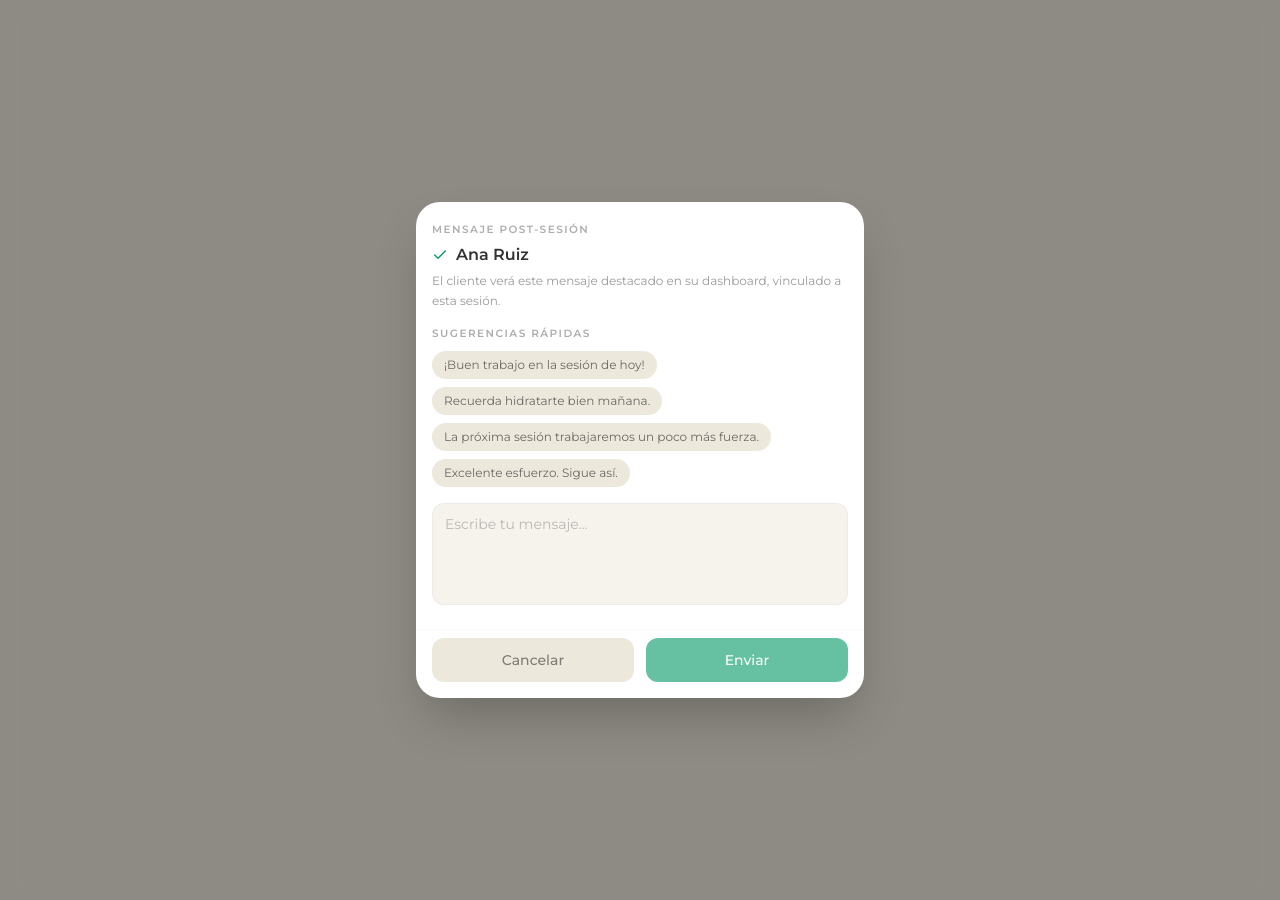
Scenario: PostSessionMessageSheet › fills the textarea when a quick suggestion is clicked
The width and height of the screenshot is (1280, 900).
Step 1. Click the button "¡Buen trabajo en la sesión de hoy!" → (544, 365), box [432,351,657,379]
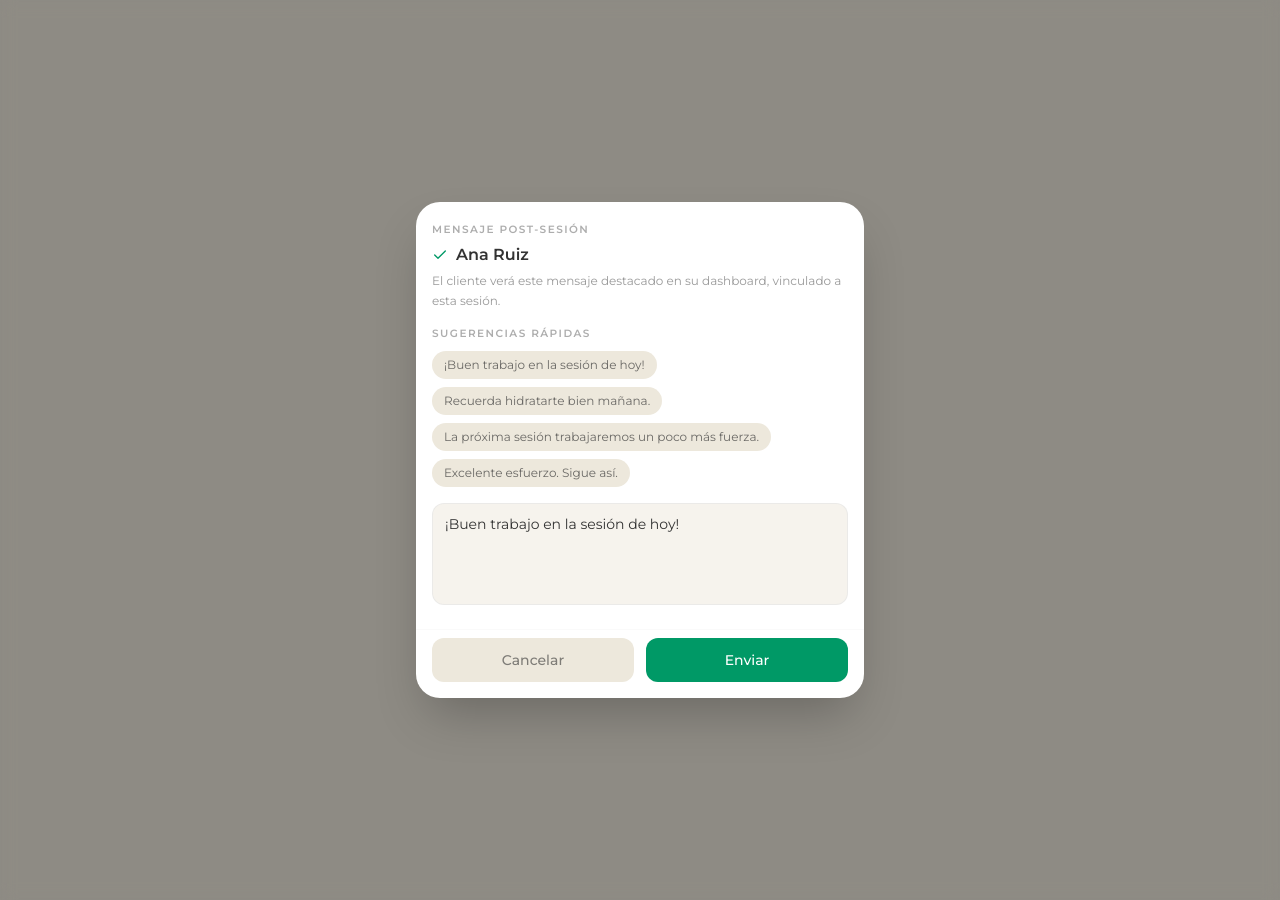
Now the text box with placeholder "Escribe tu mensaje..." holds "¡Buen trabajo en la sesión de hoy!", box [432,503,848,605]
